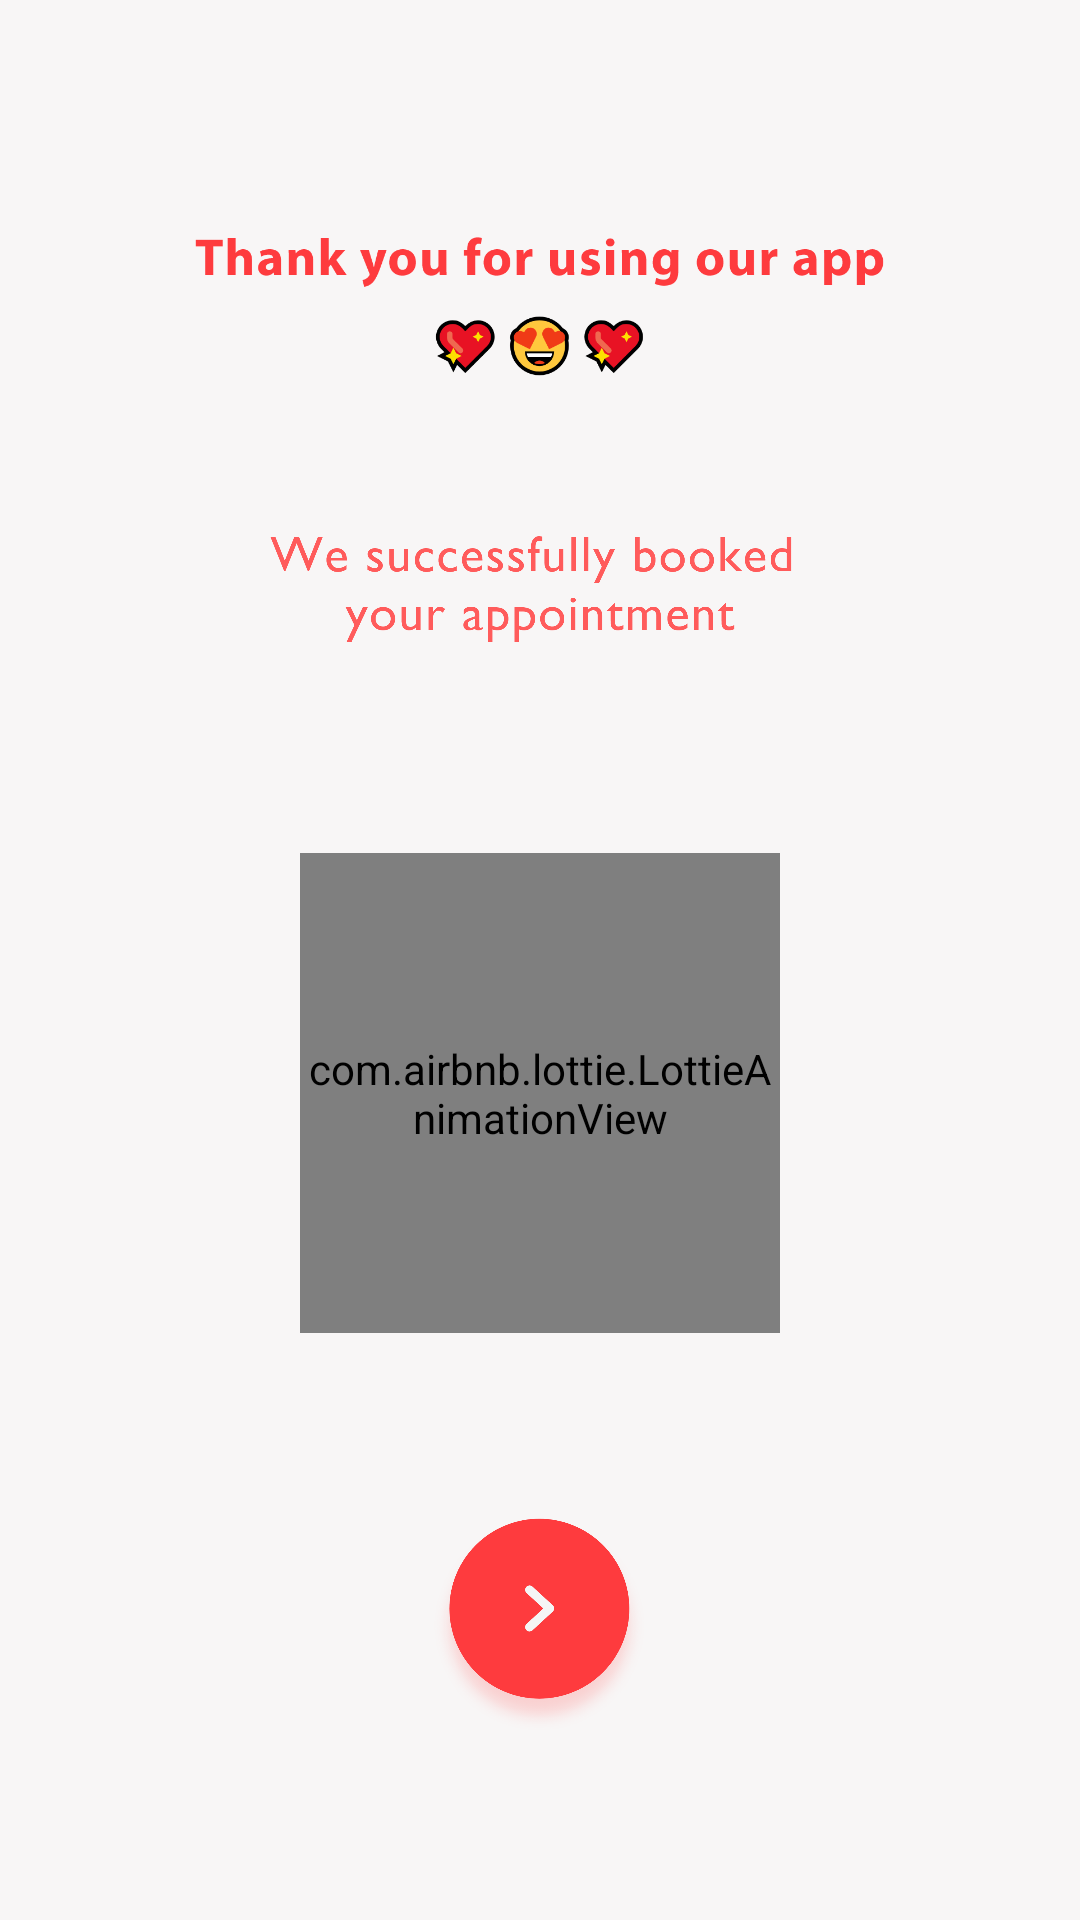

Screen size 1080w x 1920h. Icon name, then its box in pixels as (x1, y1, x2, y2):
circle next: (449, 1518, 630, 1713)
